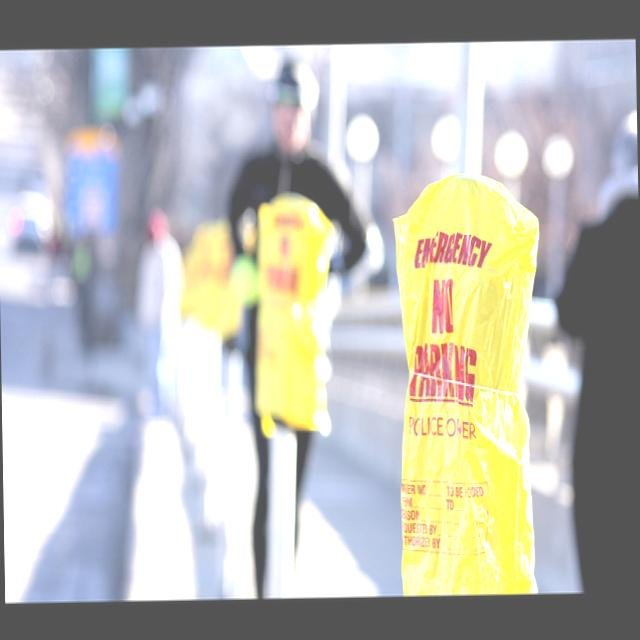Vehicle: (5, 182, 60, 250)
